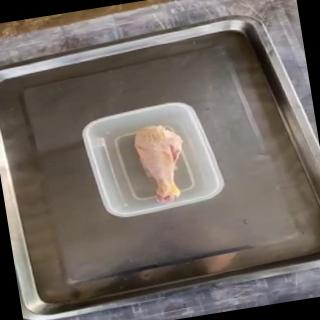Ayam: (132, 122, 194, 208)
